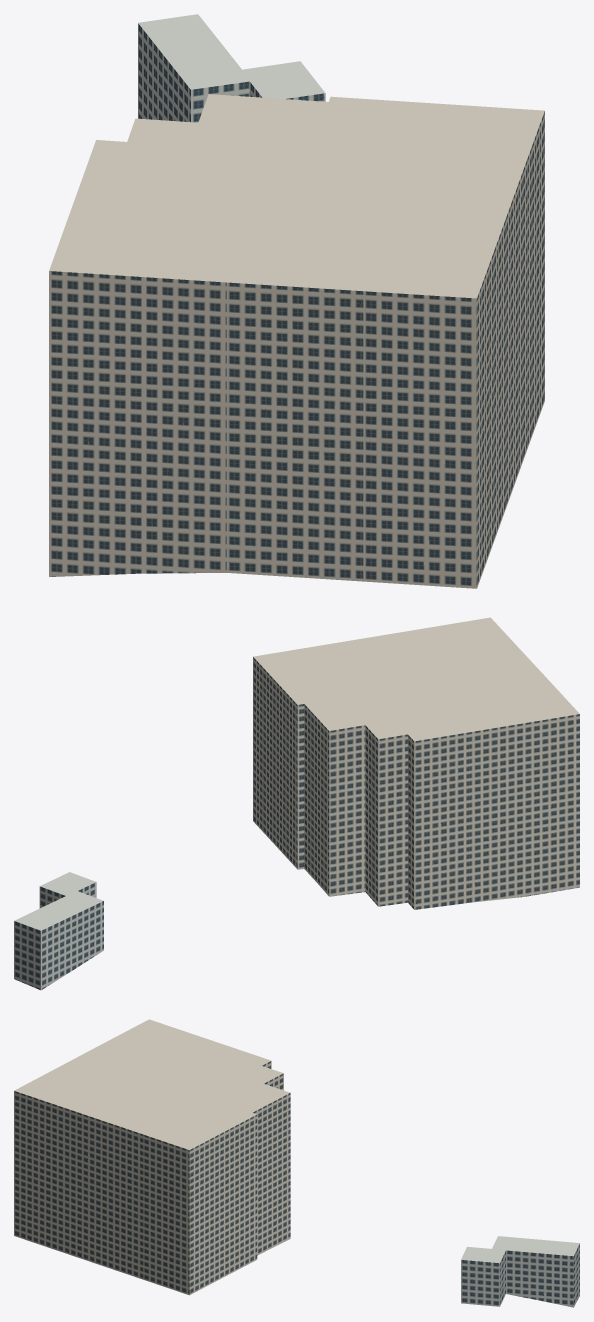
File: city_8_1.glb
3 renders of one model, top to bottom at view 1: azimuth 30°, elevation 25°; view 2: azimuth 150°, elevation 25°; view 3: azimuth 270°, elevation 25°, orthographic. The views are drawn at different scales.
Size of the model in its own units: 156 by 75.97 by 254.
2 materials, 2 textured.
